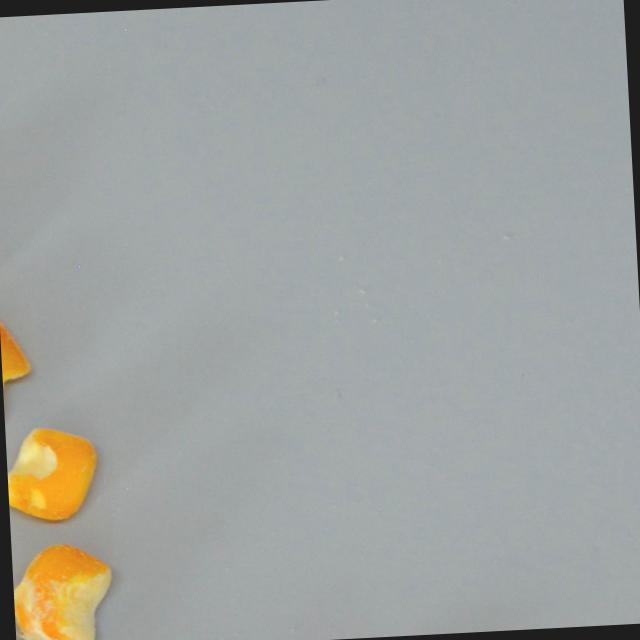dañado: (11, 536, 117, 640), (5, 420, 106, 525), (0, 299, 37, 426)
